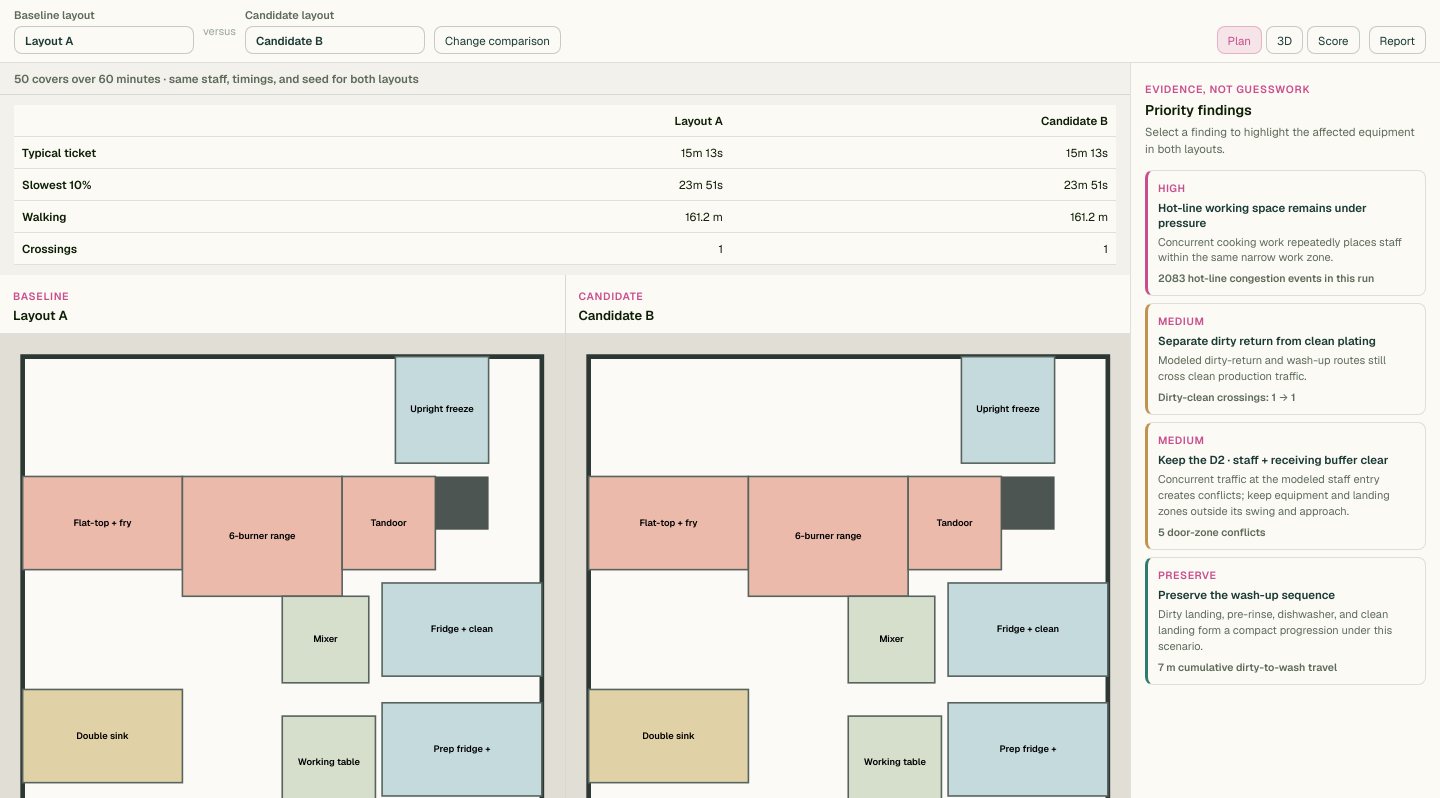
it: layout comparison workspace › prepares ReportView print and HTML export from the shared report generator
Click the button "Report": [1397, 40] box [1369, 26, 1426, 54]
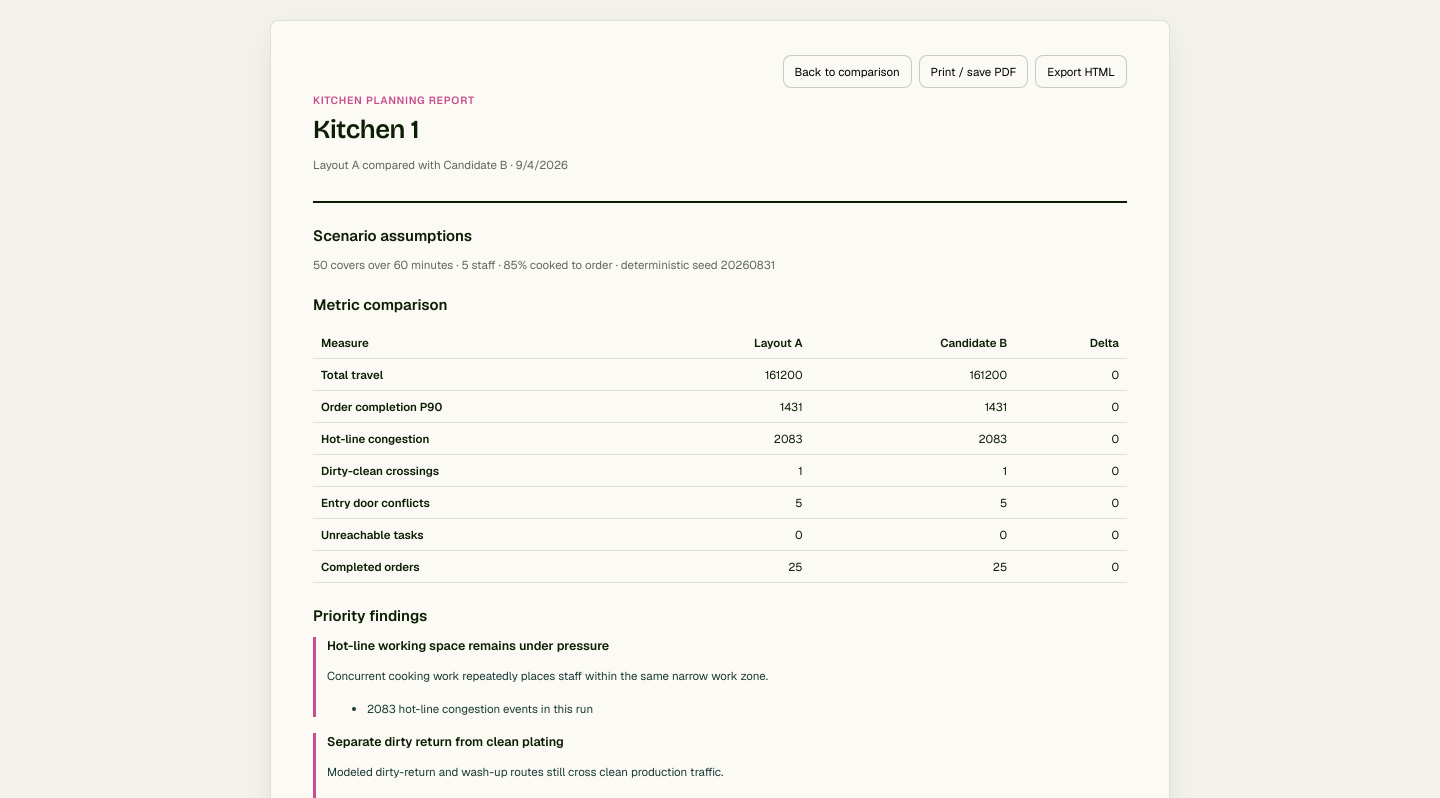
Expected: the button "Print / save PDF" is shown, [919, 55, 1028, 88]
Expected: the button "Export HTML" is shown, [1035, 55, 1127, 88]
